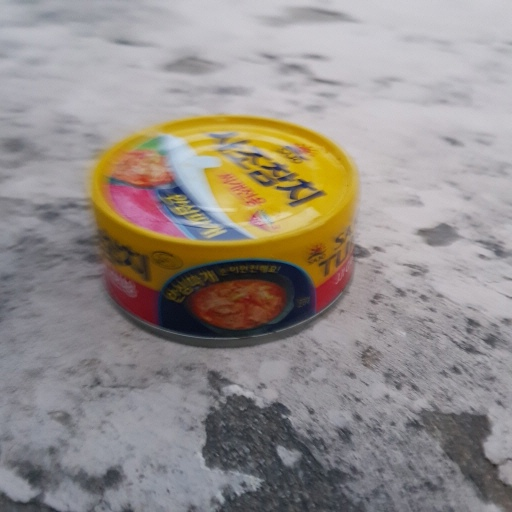Metal_1: (87, 111, 361, 349)
